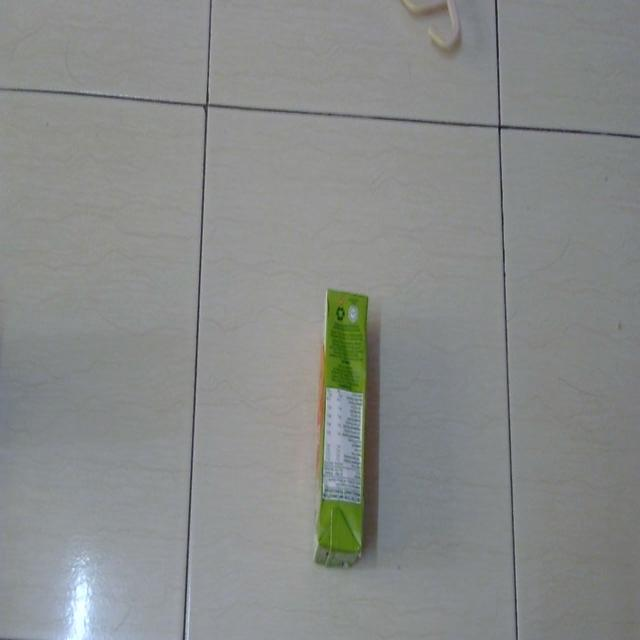plastic_laydown_90rotation: (302, 272, 390, 581)
